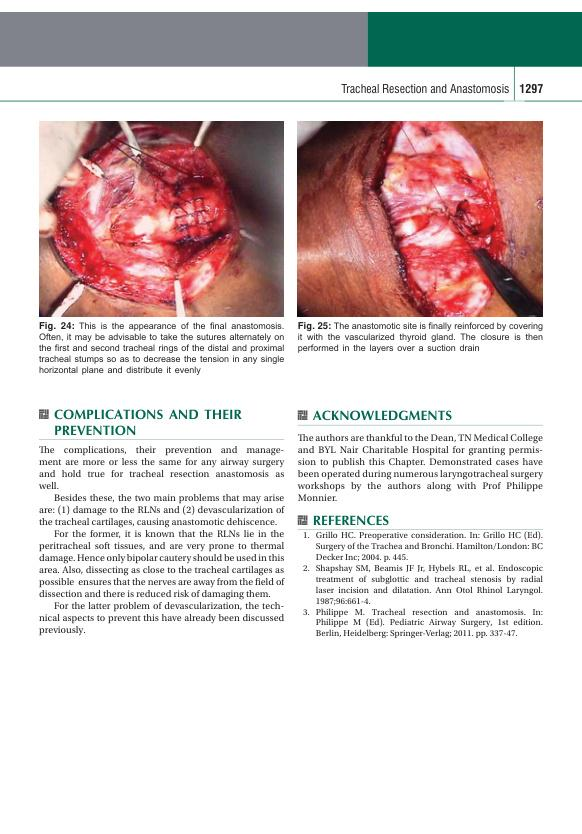caption: (37, 320, 286, 377), (297, 319, 544, 355)
header: (340, 82, 510, 95)
image: (39, 120, 284, 318), (297, 120, 543, 317)
list: (302, 530, 544, 640)
section-heading: (52, 407, 243, 438), (312, 408, 454, 422), (311, 514, 391, 526)
text: (37, 444, 286, 637), (296, 432, 544, 503)
